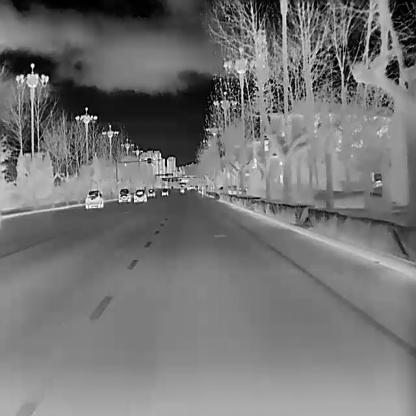car: (84, 188, 102, 208), (133, 188, 147, 202), (118, 187, 130, 201), (147, 188, 155, 197), (160, 188, 168, 196)
